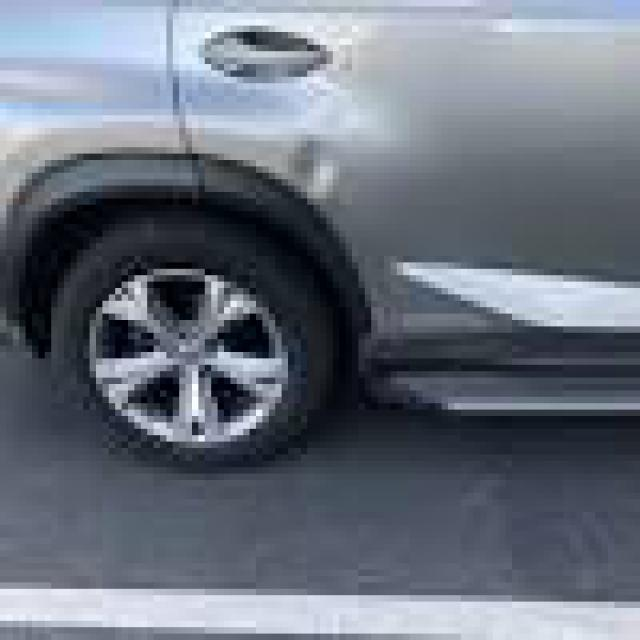doorouter-dent: (275, 128, 352, 211)
